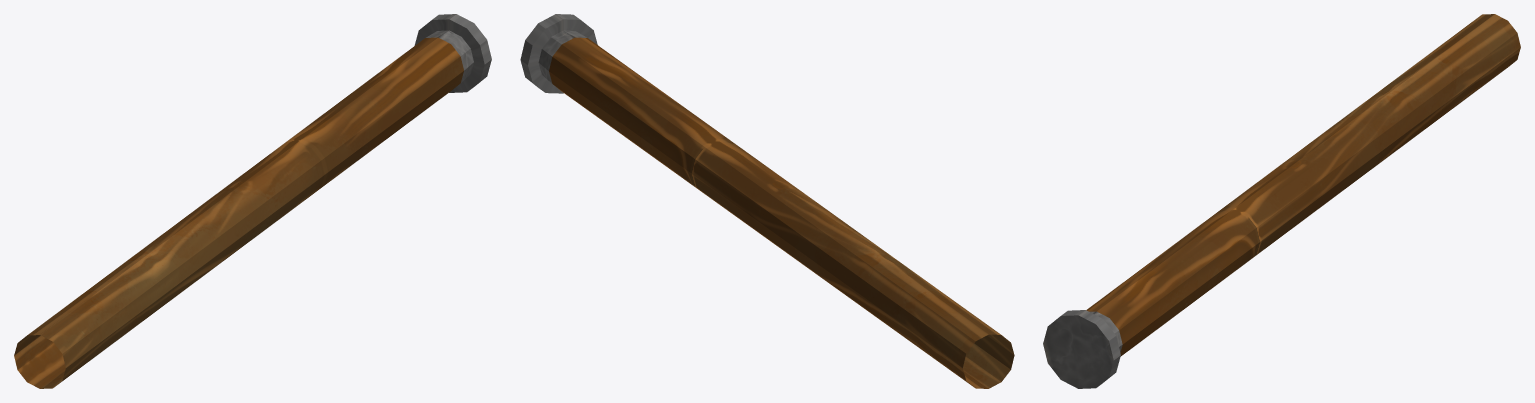
3 renders of one model, left to right at view 1: azimuth 90°, elevation 25°; view 2: azimuth 150°, elevation 25°; view 3: azimuth 270°, elevation 25°, orthographic.
Parts seen in each view (by area): view 1: Cylinder.094; view 2: Cylinder.094; view 3: Cylinder.094.
Part boxes in pixels (x1,y1,x2,y2): Cylinder.094: (14, 14, 491, 388); Cylinder.094: (520, 14, 1014, 388); Cylinder.094: (1043, 14, 1520, 388).
Bounding box in the file's own units: 177 × 18.63 × 110.
Materials: 1 (1 with a texture image).
